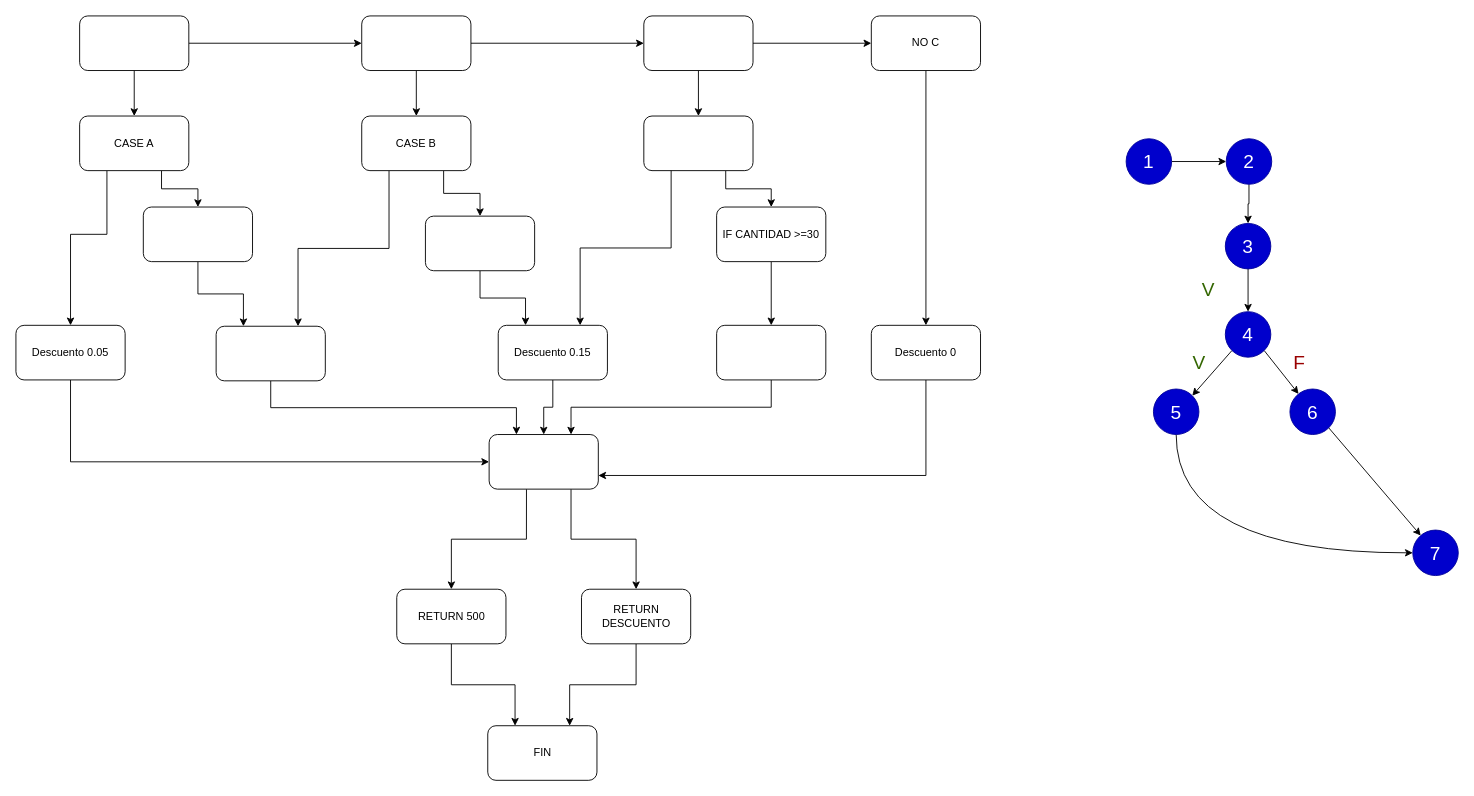
Image size: 1474x796. Some labels were removed from this diagram. Each missing label, with the box of its shape:
CASE C: (643, 115, 753, 171)
Descuento 0.1: (215, 325, 325, 381)
Descuento 0.2: (716, 324, 826, 380)
IF CANTIDAD >=10: (142, 206, 253, 262)
IF CANTIDAD >=20: (425, 215, 535, 271)
IF DESCUENTO >500: (488, 434, 598, 489)
NO A: (361, 15, 471, 71)
NO B: (643, 15, 753, 71)
SIWTCH: (79, 15, 189, 71)
